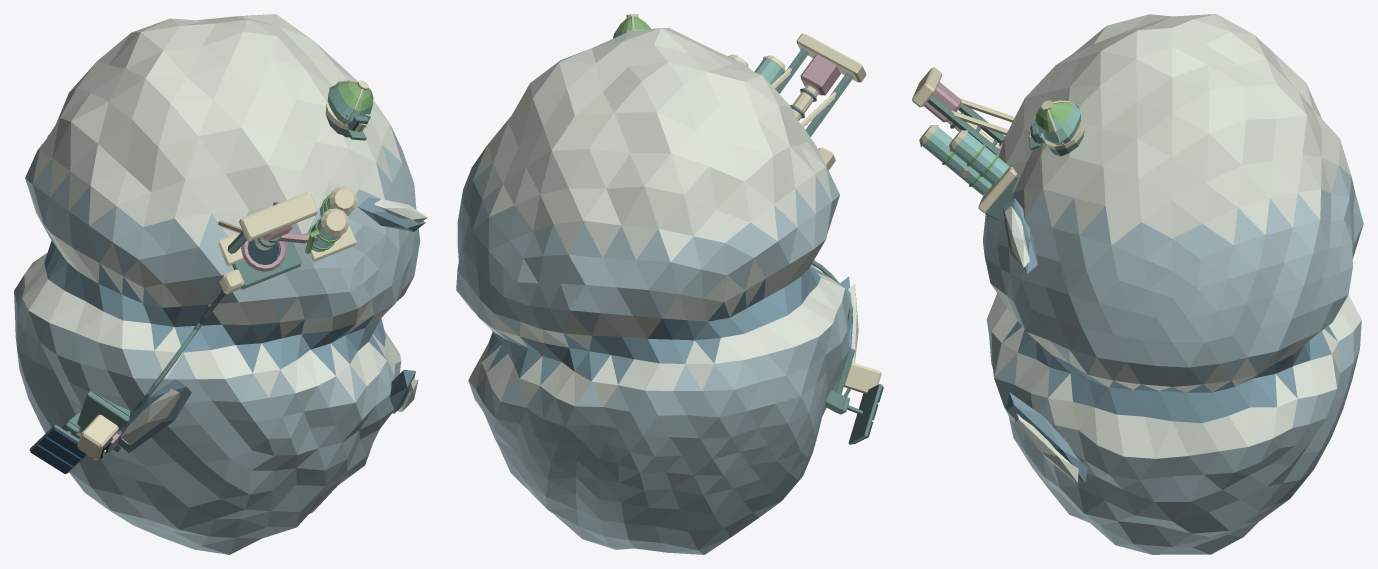
The model's file is kuiper.glb.
3 views of the same model, side by side, from view 1: azimuth 30°, elevation 25°; view 2: azimuth 150°, elevation 25°; view 3: azimuth 270°, elevation 25° (orthographic). The views are drawn at different scales.
Parts seen in each view (by area): view 1: S5_kuiper • modeled surfaces; view 2: S5_kuiper • modeled surfaces; view 3: S5_kuiper • modeled surfaces.
Part boxes in pixels (<box>): S5_kuiper • modeled surfaces: <box>14,14,427,554</box>; S5_kuiper • modeled surfaces: <box>456,14,883,554</box>; S5_kuiper • modeled surfaces: <box>912,14,1363,554</box>.
Bounding box in the file's own units: 1.26 × 1.6 × 1.27.
